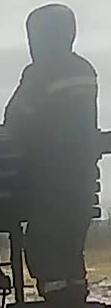vest: (12, 60, 100, 208)
